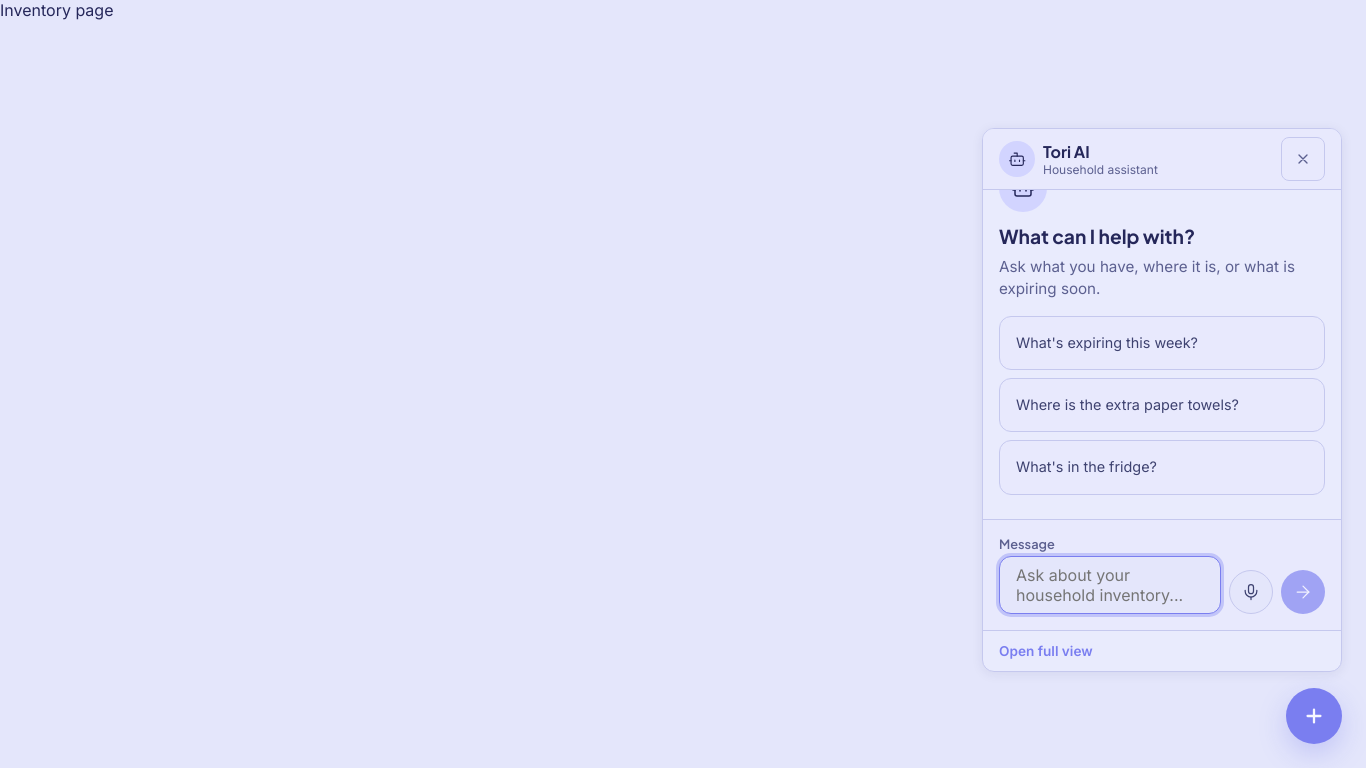
it: ToriWidget › renders item cards when Tori returns matched inventory
The image size is (1366, 768).
(page scrolled)
Click the button "What's expiring this week?".
click(1162, 343)  # box [999, 316, 1325, 370]
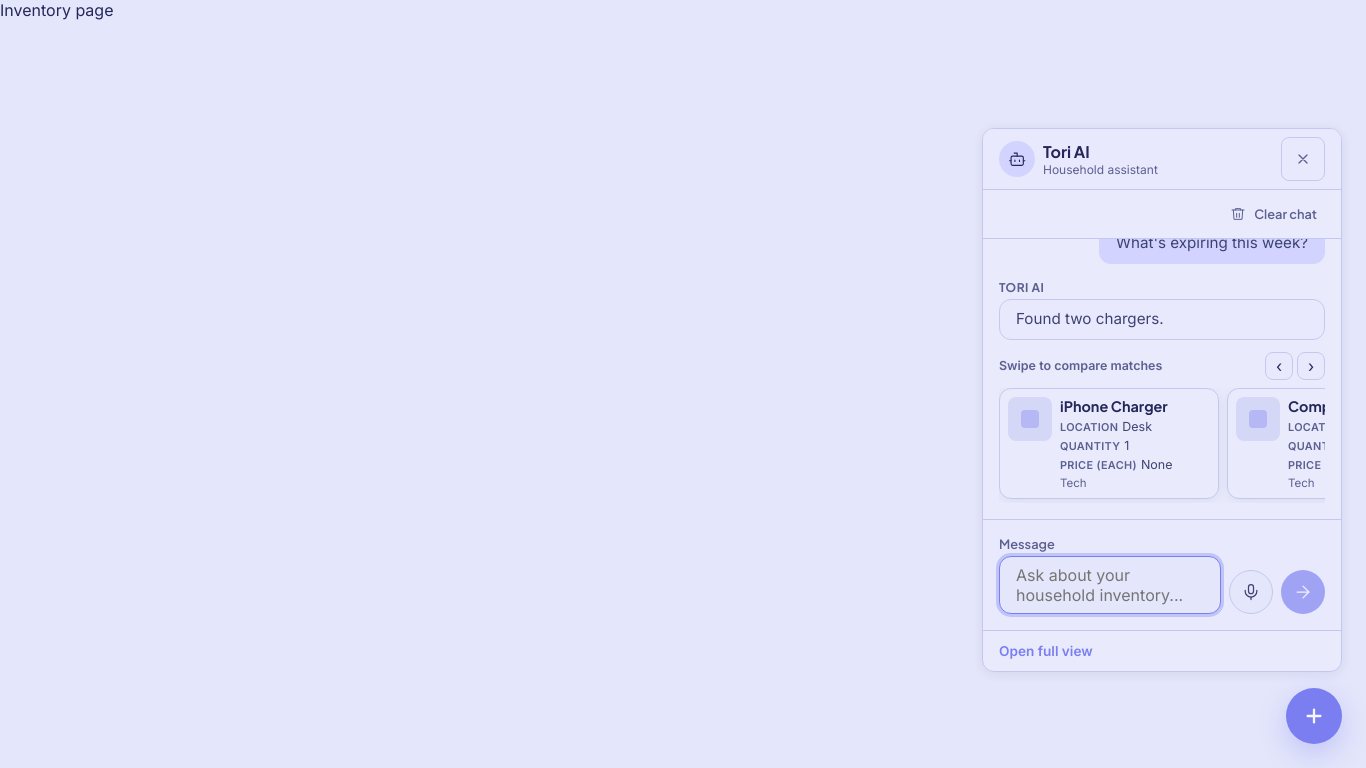
Check: the heading "iPhone Charger" is shown, box [1060, 397, 1168, 415]
Check: the text "Swipe to compare matches" is shown, box [999, 358, 1162, 373]
